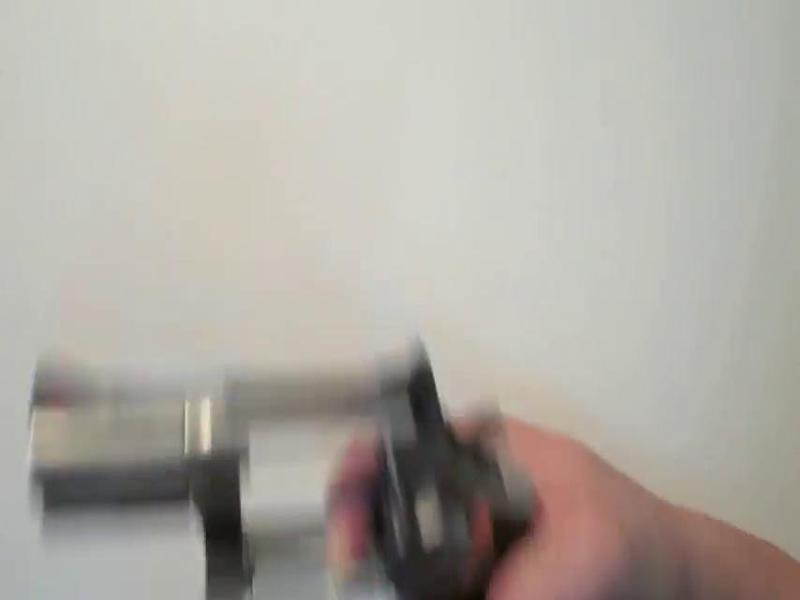Revolver: (22, 294, 506, 600)
